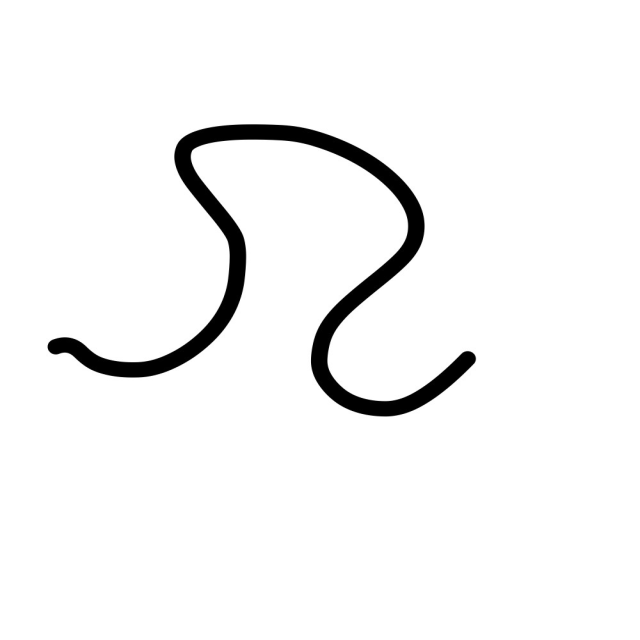ohms: (32, 54, 557, 479)
